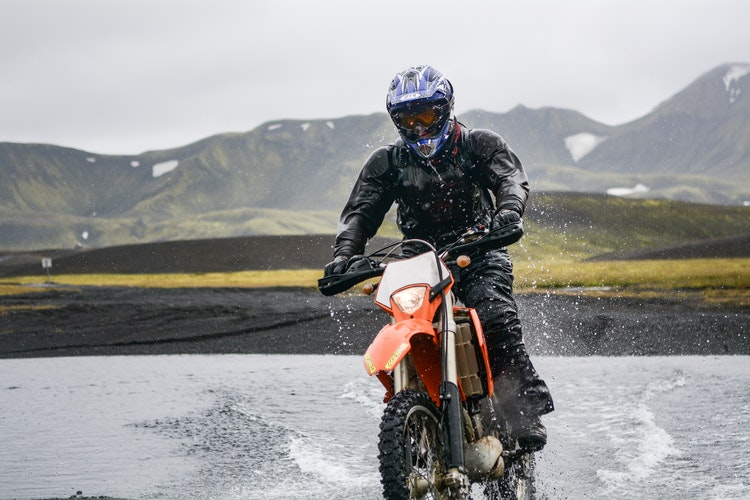helmet: (387, 66, 454, 143)
